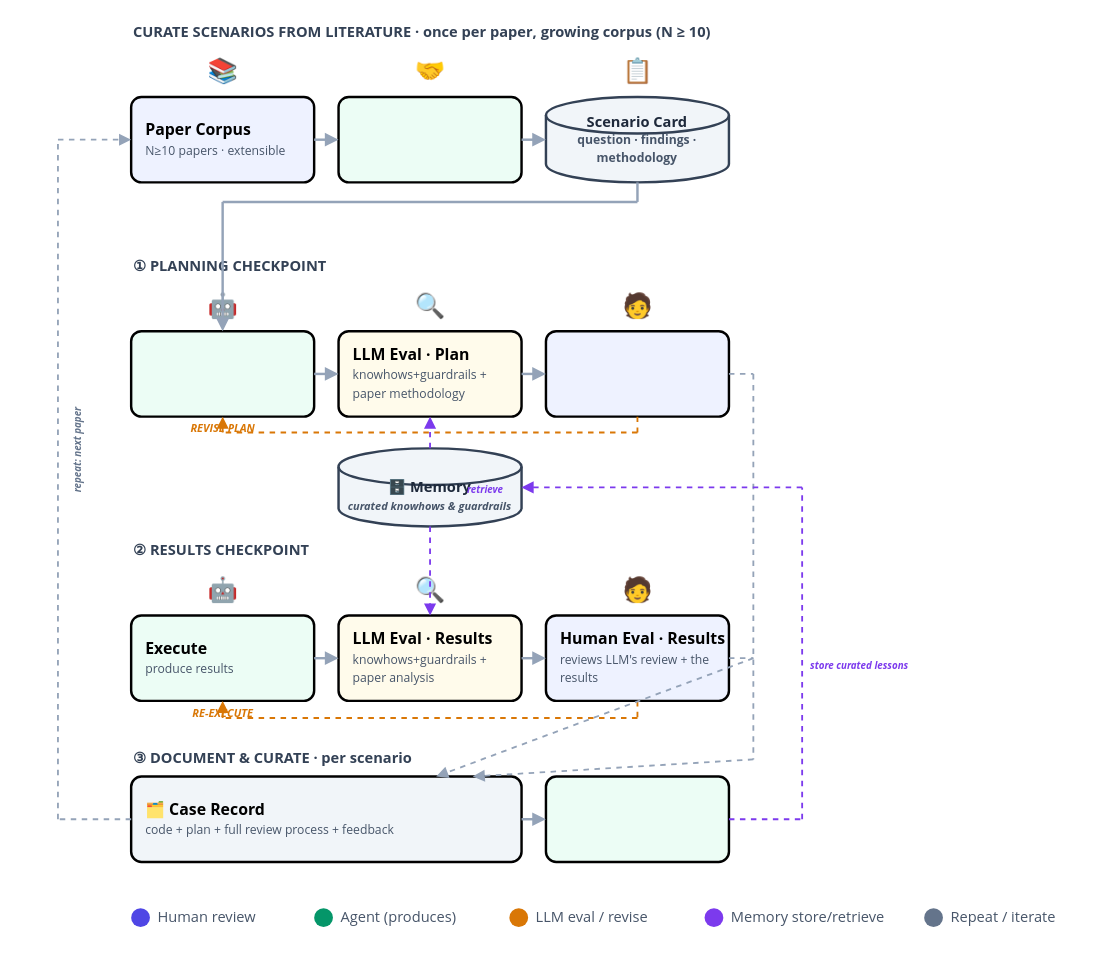
Some shapes in this 1115 by 955 pixel diagram are drawn without their labels. Each missing label, with the box of its shape:
Curate Feedback framework distills reusable lessons: (544, 775, 730, 863)
Extract Scenario LLM + human experts, together: (337, 95, 522, 183)
Human Eval · Plan reviews LLM's review + the plan: (544, 329, 730, 417)
Prompt Agentic runs scenario question → plan: (129, 329, 315, 417)
